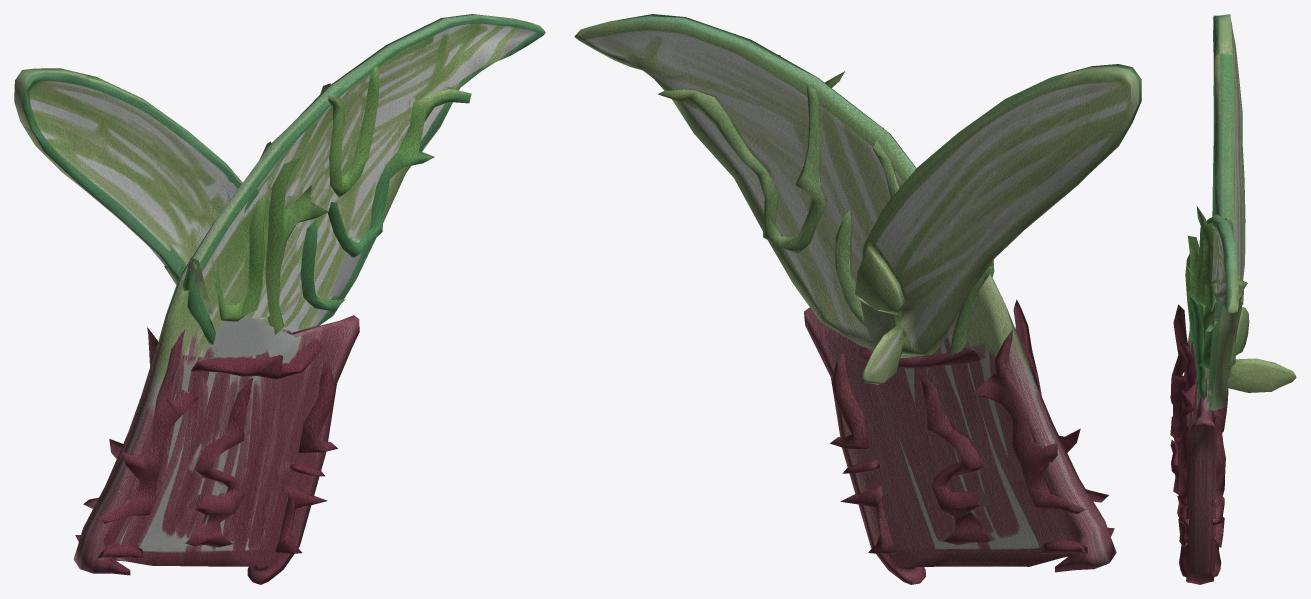
Rendered from grove.glb.
3 views of the same model, side by side, from view 1: azimuth 30°, elevation 25°; view 2: azimuth 150°, elevation 25°; view 3: azimuth 270°, elevation 25° (orthographic). The views are drawn at different scales.
Visible parts, largest first — view 1: mesh_node; view 2: mesh_node; view 3: mesh_node.
Boxes of the visible parts, x1,y1,x2,y2 form: mesh_node: (14,14,545,584); mesh_node: (574,14,1141,584); mesh_node: (1170,14,1296,584).
Bounding box in the file's own units: 1 × 0.998 × 0.2383.
1 material, 1 textured.
